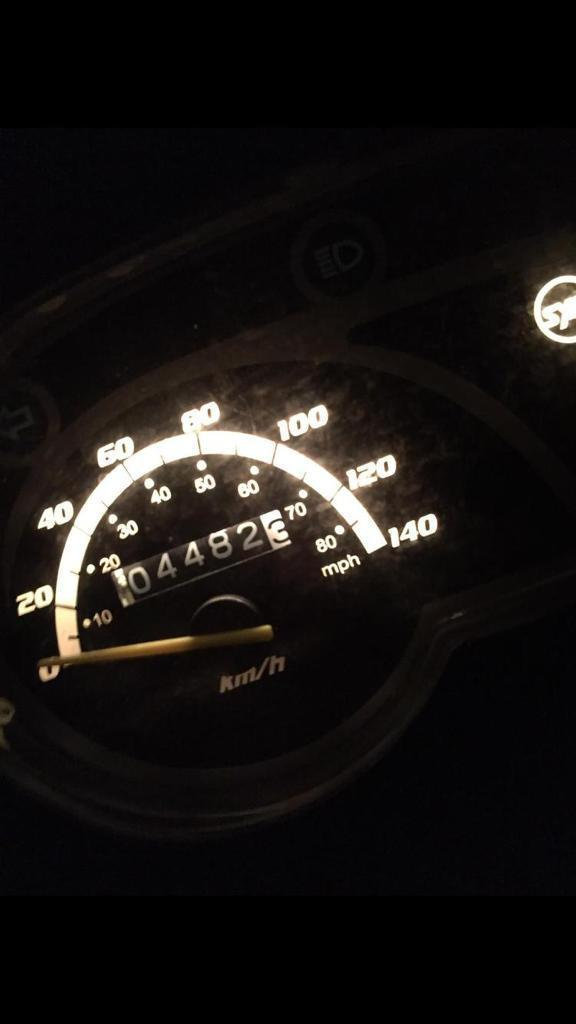0: (127, 566, 151, 594), (126, 519, 139, 536), (108, 553, 121, 569)
2: (235, 521, 264, 551)
3: (268, 518, 290, 543), (116, 523, 129, 539)
4: (183, 540, 205, 567), (156, 551, 177, 579)
7: (283, 506, 294, 520)
8: (207, 530, 232, 560)
odometer: (106, 507, 293, 610)
